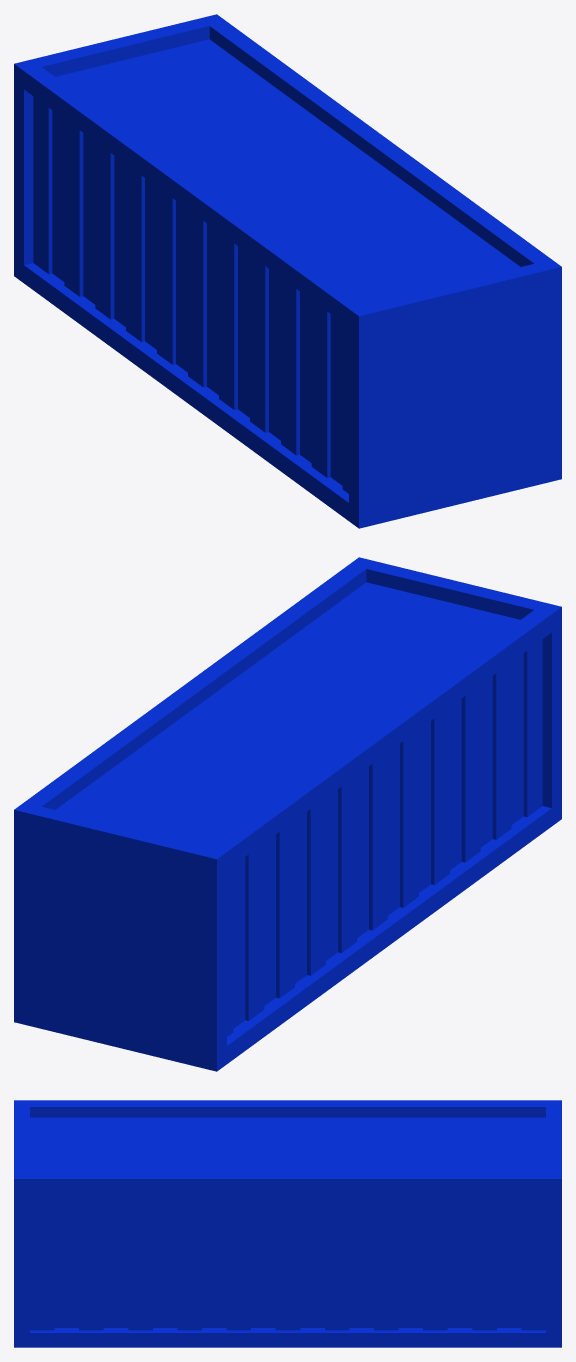
The model's file is Container.fbx.
The picture shows the model from 3 angles, top to bottom: view 1: azimuth 30°, elevation 25°; view 2: azimuth 150°, elevation 25°; view 3: azimuth 270°, elevation 25°; orthographic projection. The views are drawn at different scales.
Visible parts, largest first — view 1: container 1; view 2: container 1; view 3: container 1.
Boxes of the visible parts, x1,y1,x2,y2 form: container 1: (14, 14, 561, 528); container 1: (14, 557, 561, 1071); container 1: (14, 1100, 561, 1347).
Bounding box in the file's own units: 1104 × 1104 × 3253.
